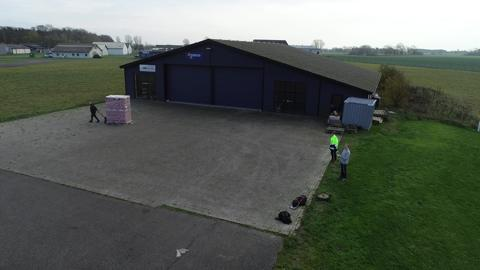RockwoolPallet: (105, 95, 133, 125)
